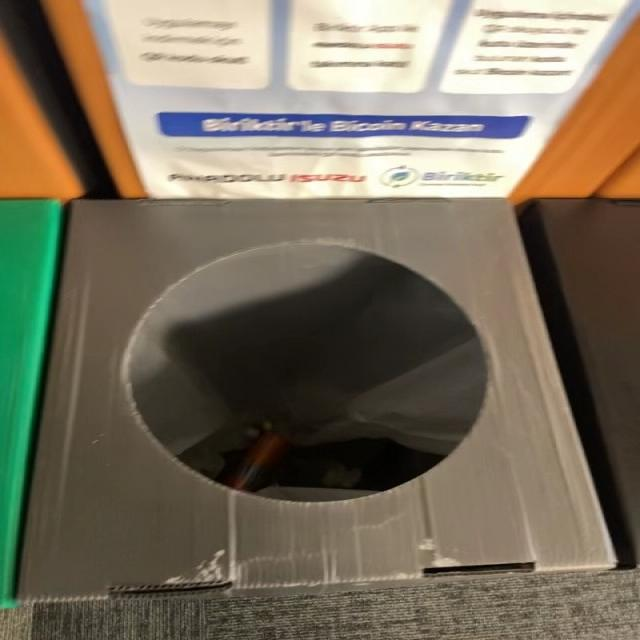bin: (20, 199, 615, 598)
metal: (227, 431, 289, 491)
